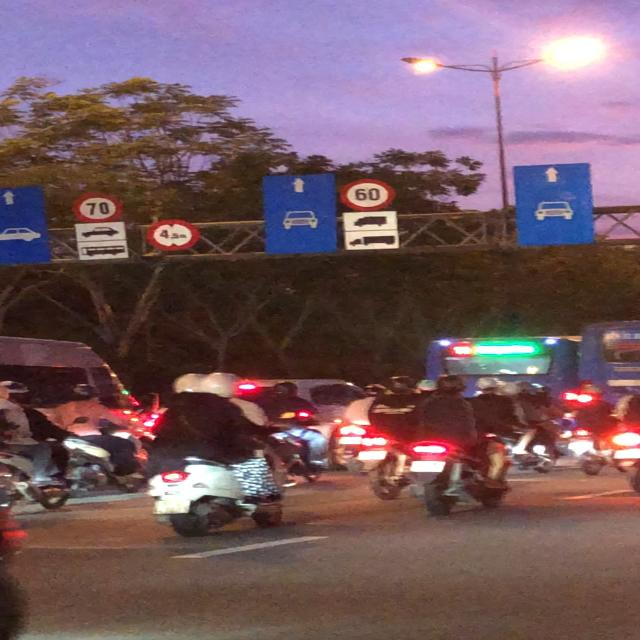Bien bao han che chieu cao: (142, 215, 197, 252)
Bien bao toc do toi da cho phep: (334, 171, 396, 214), (68, 190, 129, 223)
